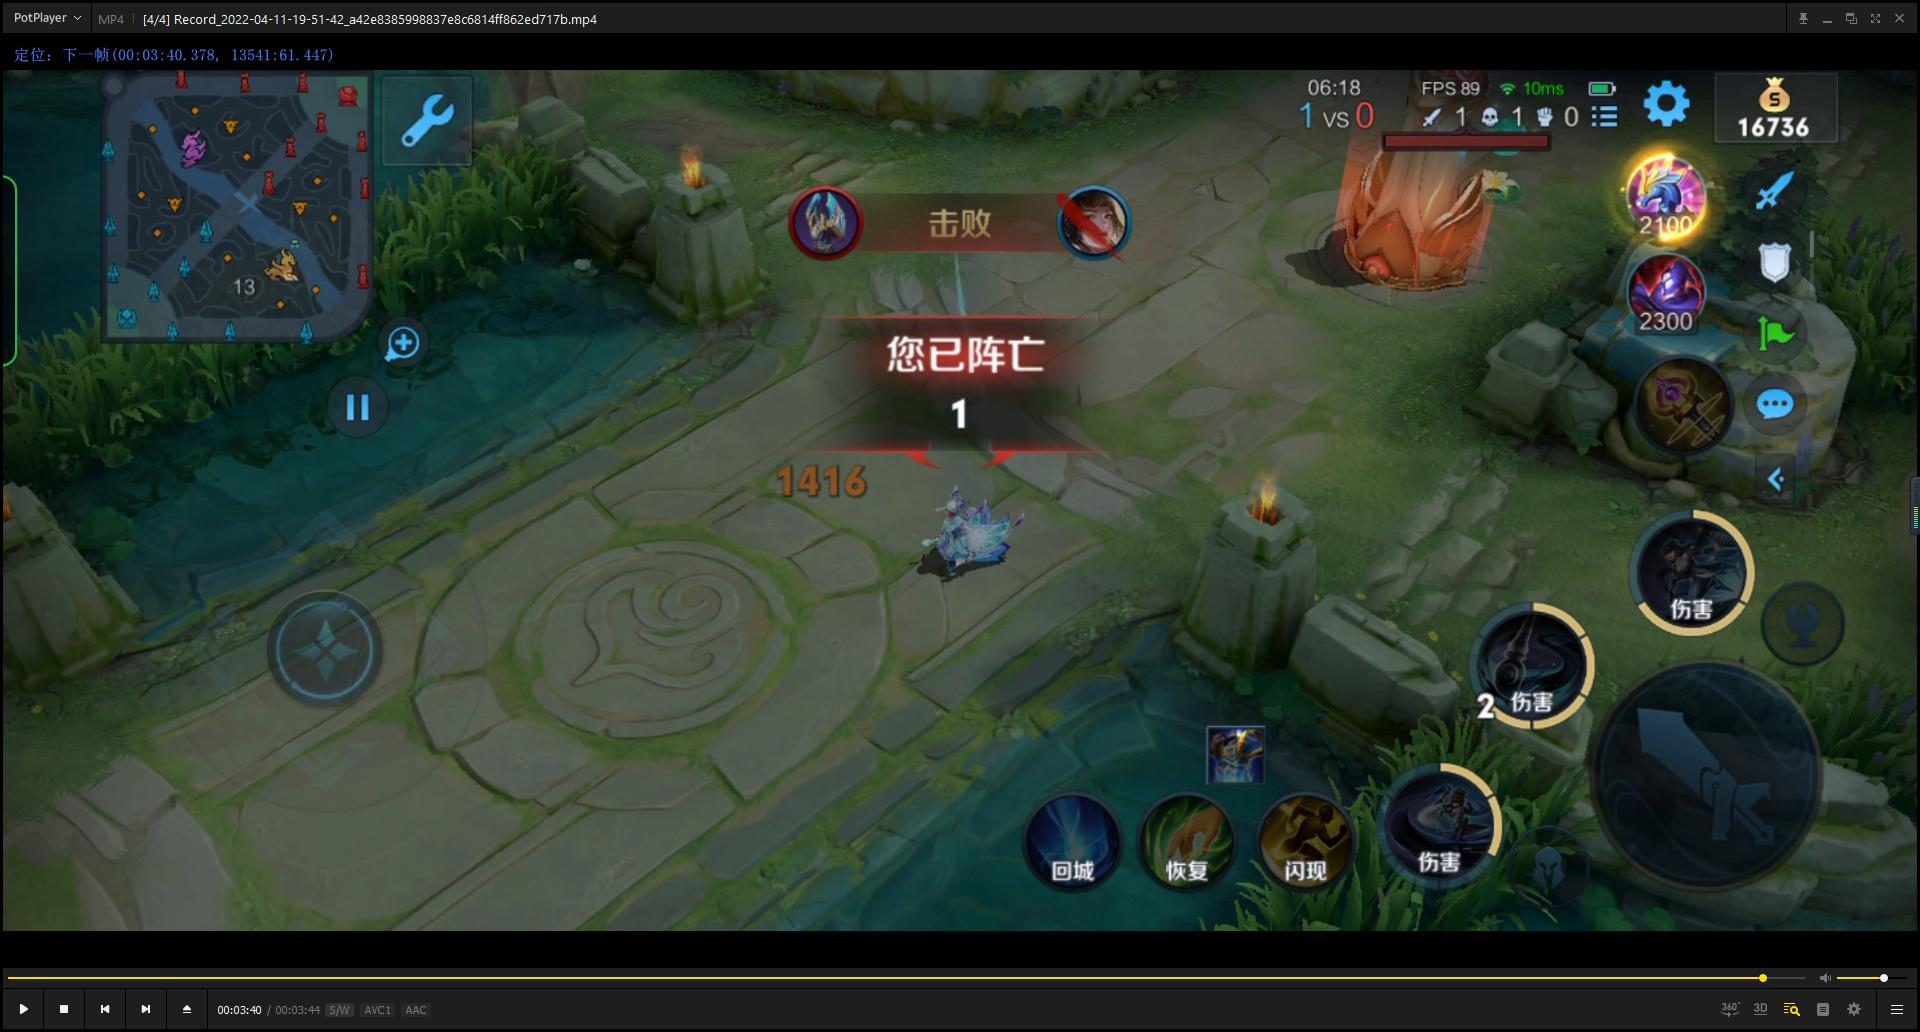Hero: (877, 468, 1083, 595)
Tower: (1300, 71, 1546, 311)
